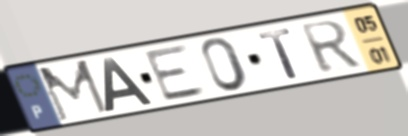0: (200, 36, 250, 93)
A: (101, 56, 156, 115)
E: (142, 42, 211, 105)
M: (35, 57, 112, 125)
R: (297, 18, 365, 76)
T: (255, 26, 303, 81)
